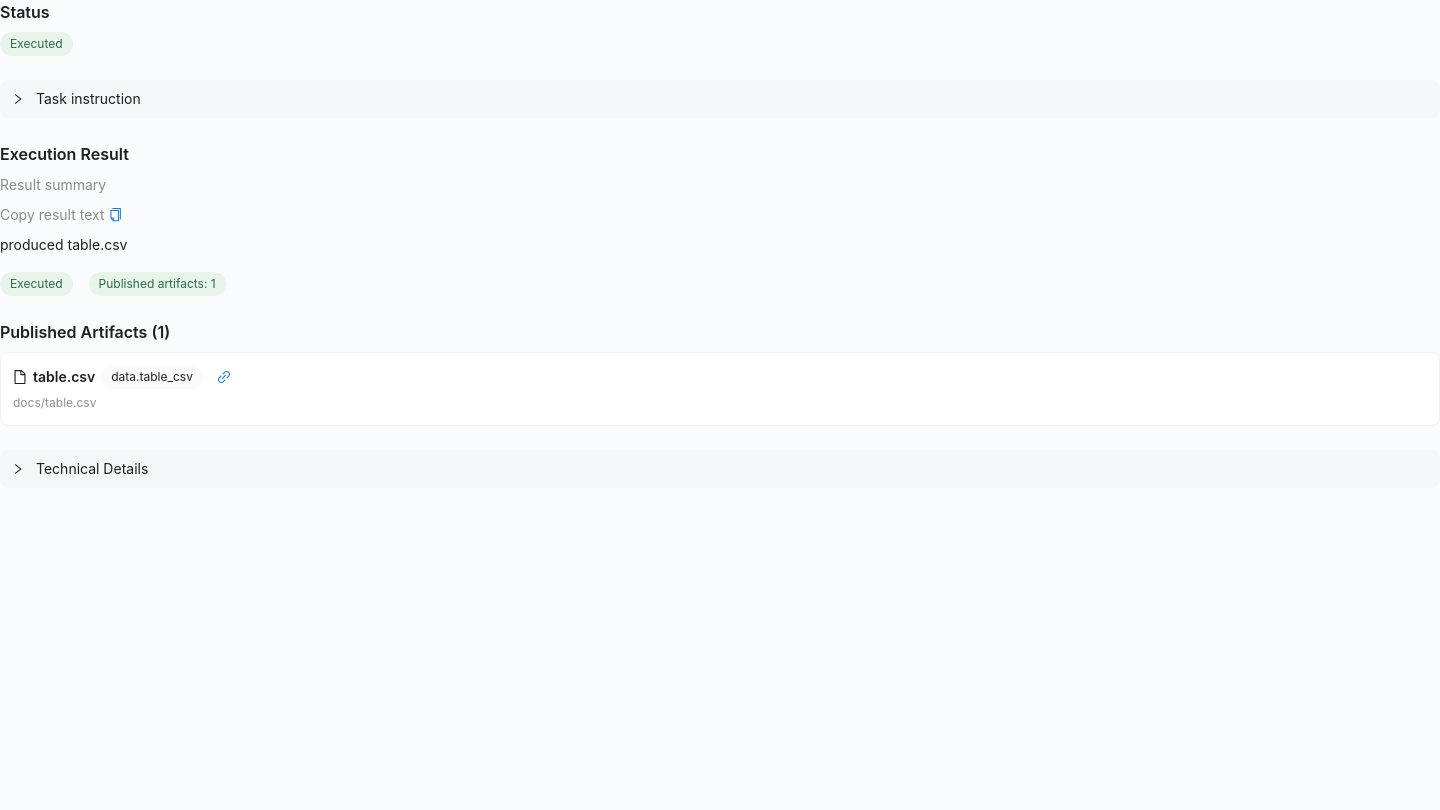
Test case: TaskDrawerContent › keeps the error state when no raw fallback path is available
This screenshot has width=1440, height=810.
Click the text "table.csv" at (64, 377), box [33,368,95,385]
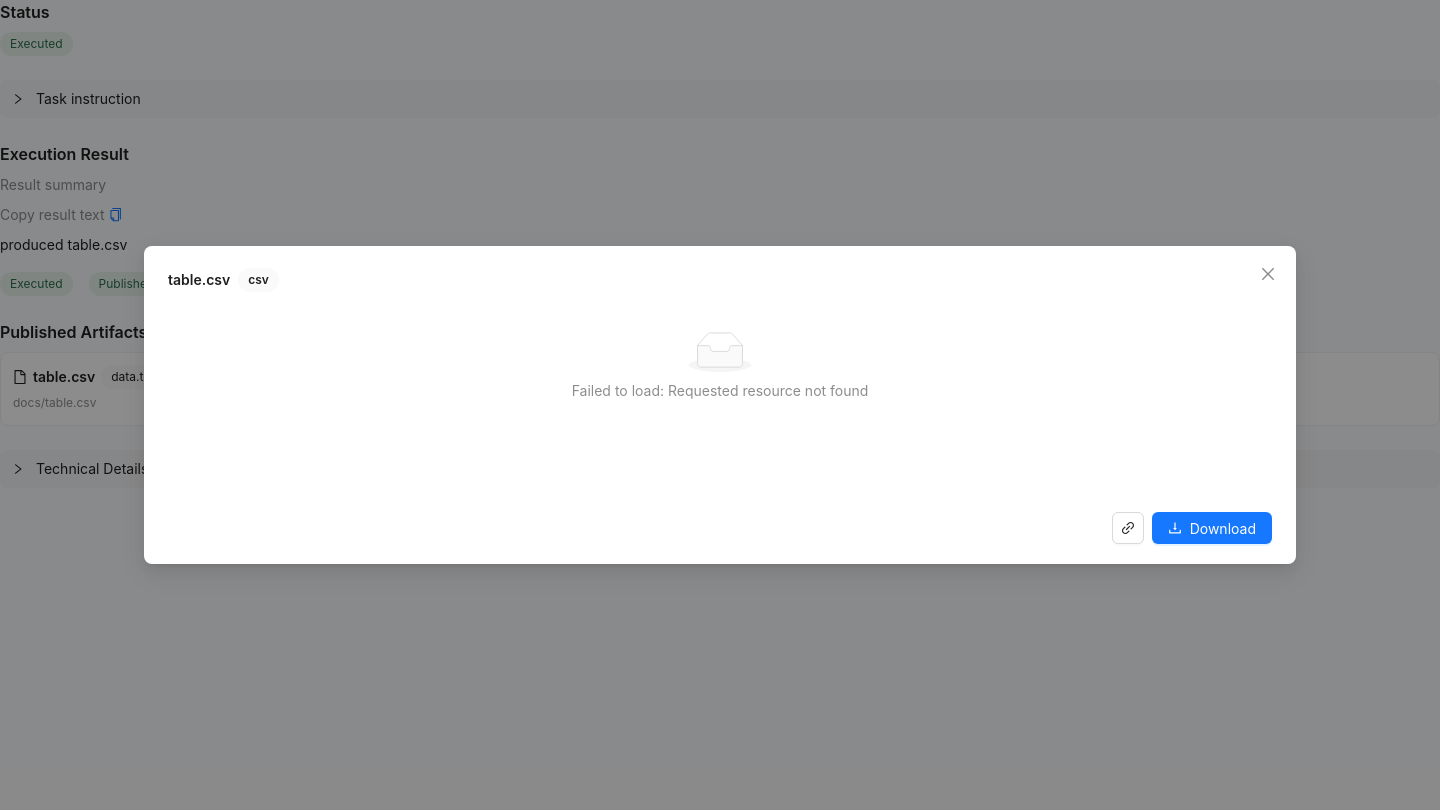
Expected: the text "Failed to load: Requested resource not found" is shown, [572,382,868,399]
